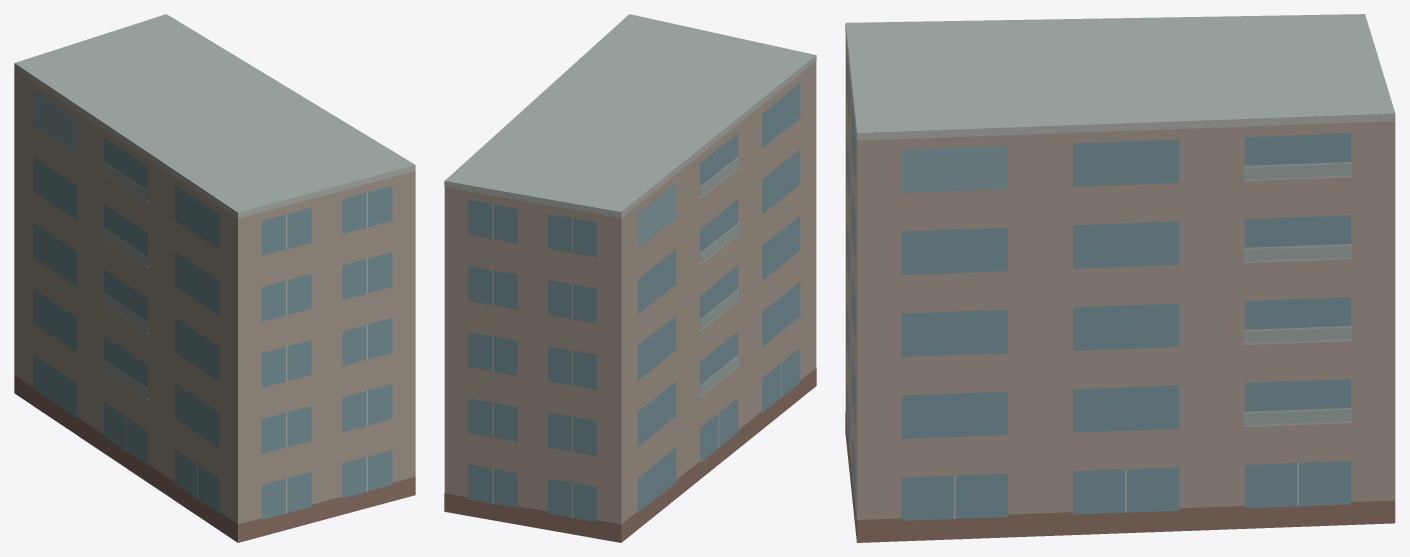
Rendered from survey-upis-32925898.glb.
The picture shows the model from 3 angles, left to right: view 1: azimuth 30°, elevation 25°; view 2: azimuth 150°, elevation 25°; view 3: azimuth 270°, elevation 25°; orthographic projection. The views are drawn at different scales.
Visible parts, largest first — view 1: survey-upis-32925898.tmp; view 2: survey-upis-32925898.tmp; view 3: survey-upis-32925898.tmp.
Part boxes in pixels (x1,y1,x2,y2): survey-upis-32925898.tmp: (14, 14, 415, 542); survey-upis-32925898.tmp: (444, 14, 816, 542); survey-upis-32925898.tmp: (845, 14, 1395, 542).
Bounding box in the file's own units: 8.24 × 13.2 × 16.06.
